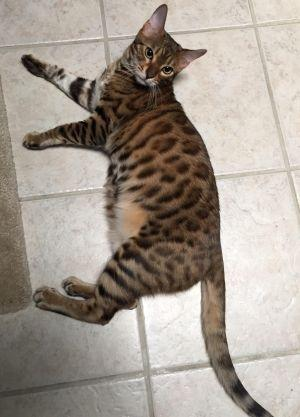bengal: (113, 1, 215, 101)
